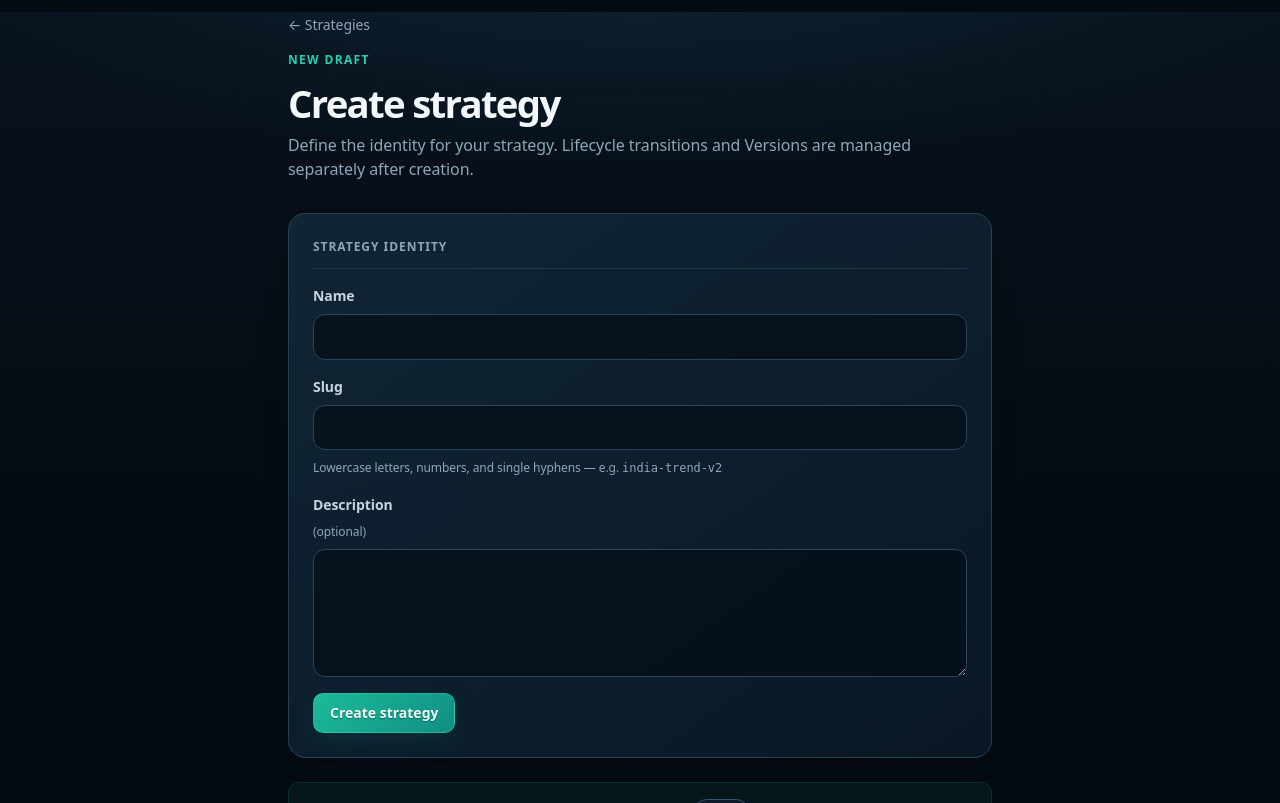
StrategyNewPage — create form › rejects an invalid slug pattern (uppercase, spaces)
Type "Valid Name" into the field labelled "Name" at (640, 337), box 313,314 -> 967,360
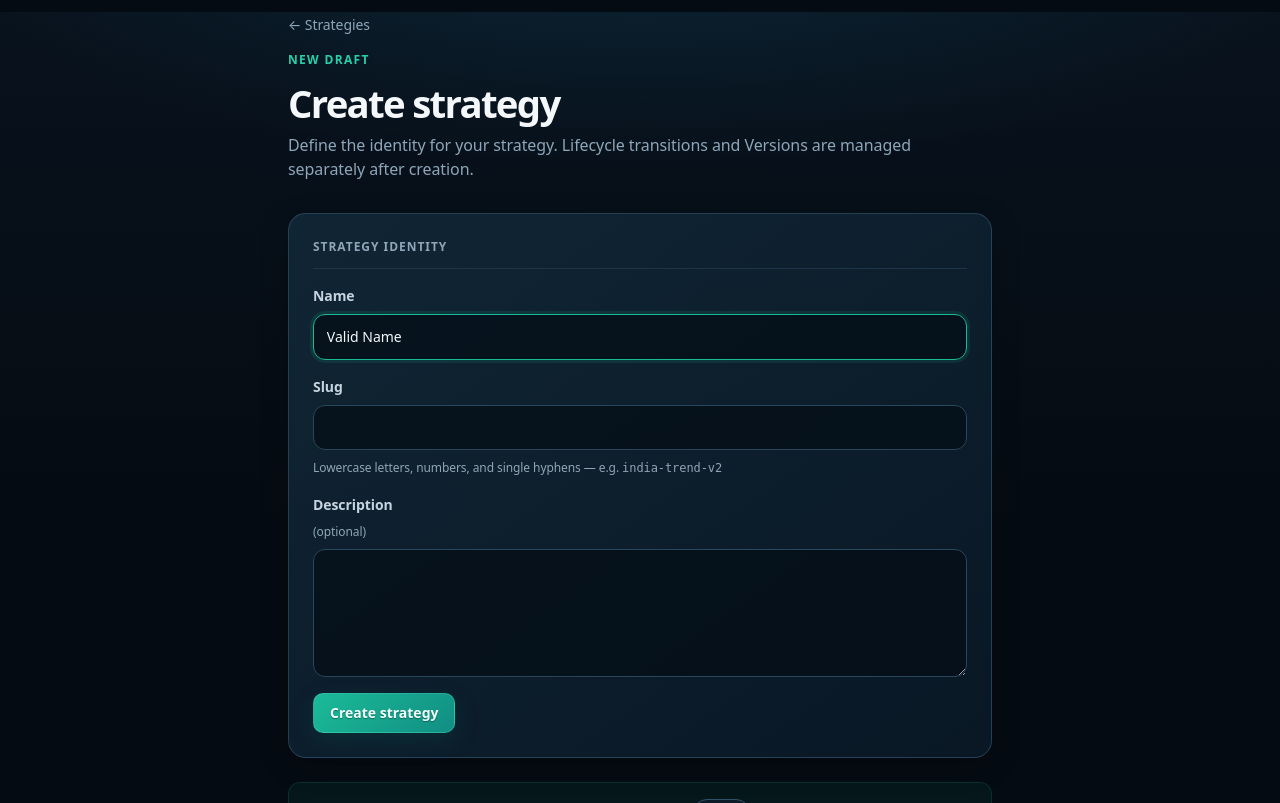
Type "Invalid Slug!" into the field labelled "Slug" at (640, 427), box 313,404 -> 967,450
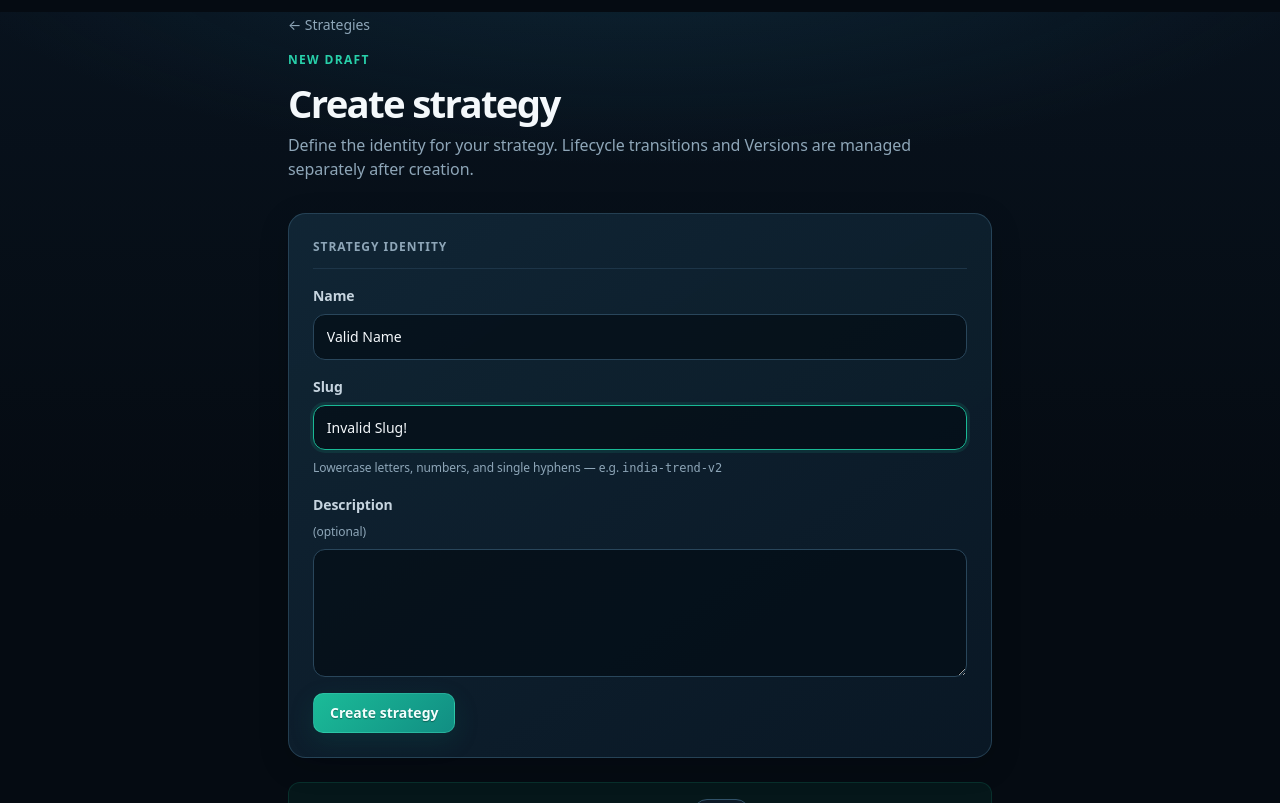
Click the button "Create strategy" at (384, 713), box 313,693 -> 456,733
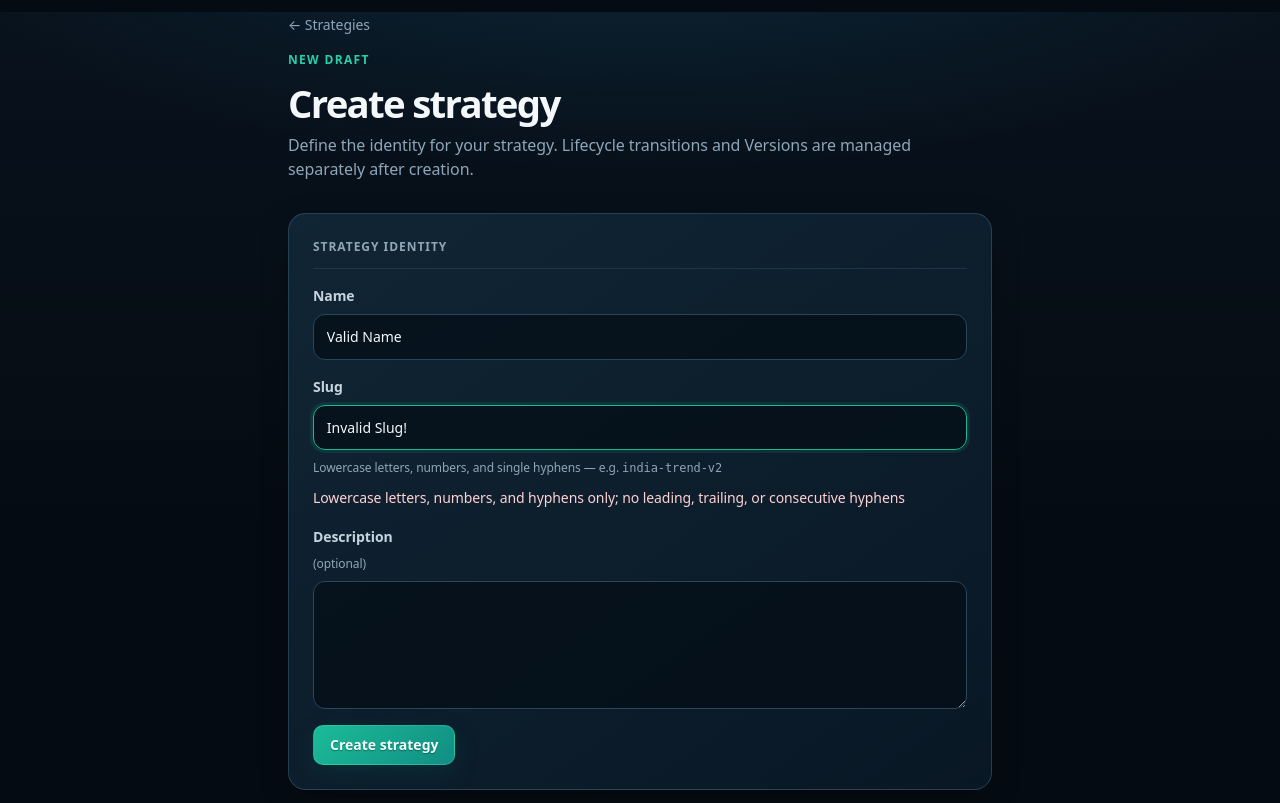
Result: the text "Lowercase letters, numbers, and hyphens only; no leading, trailing, or consecutive hyphens" is shown at 313,488 -> 905,507
